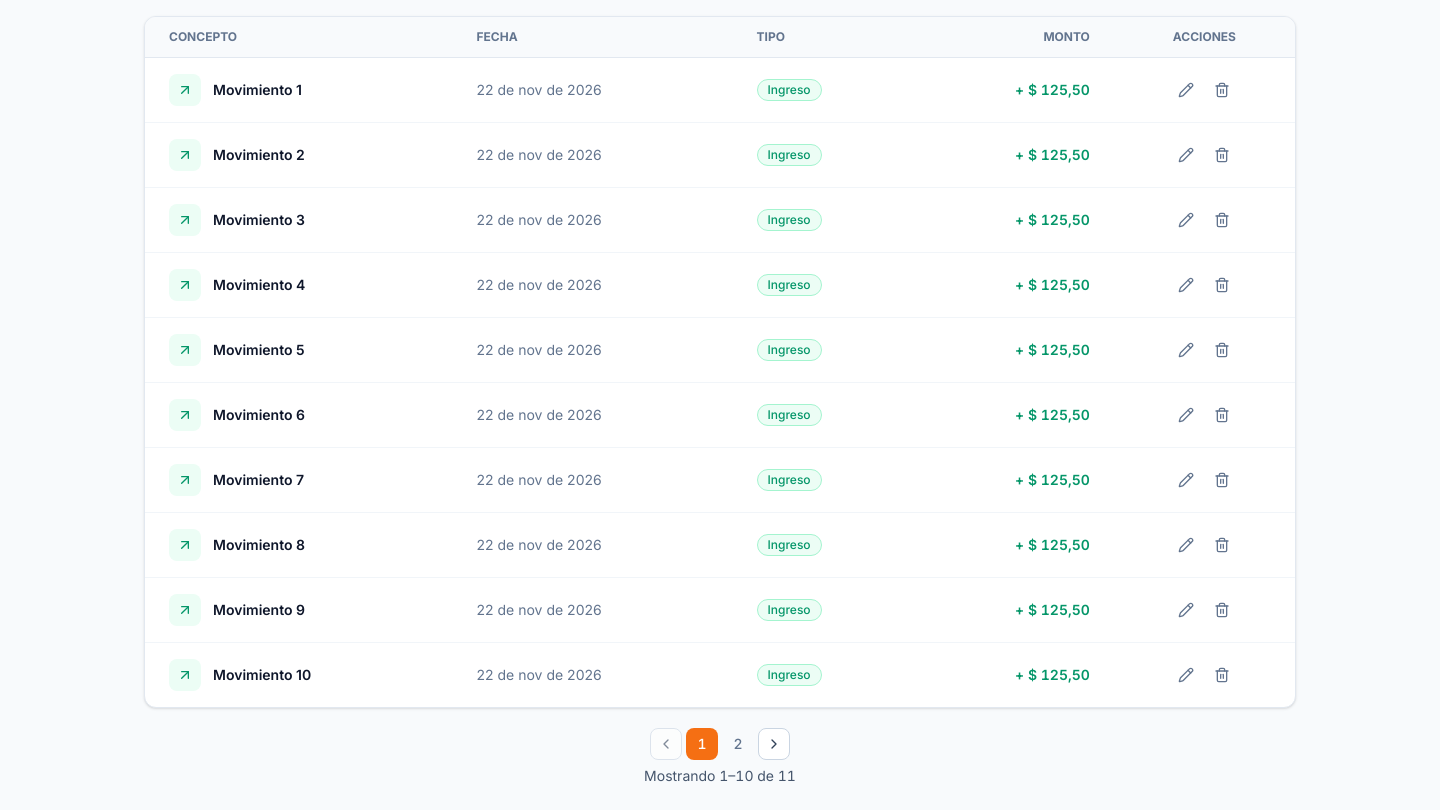
Test case: vuelve a la última página disponible al eliminar el único movimiento de la página
(page scrolled)
Click the button named "Página siguiente" at {"x": 774, "y": 744}, box [758,728,790,760]
(page scrolled)
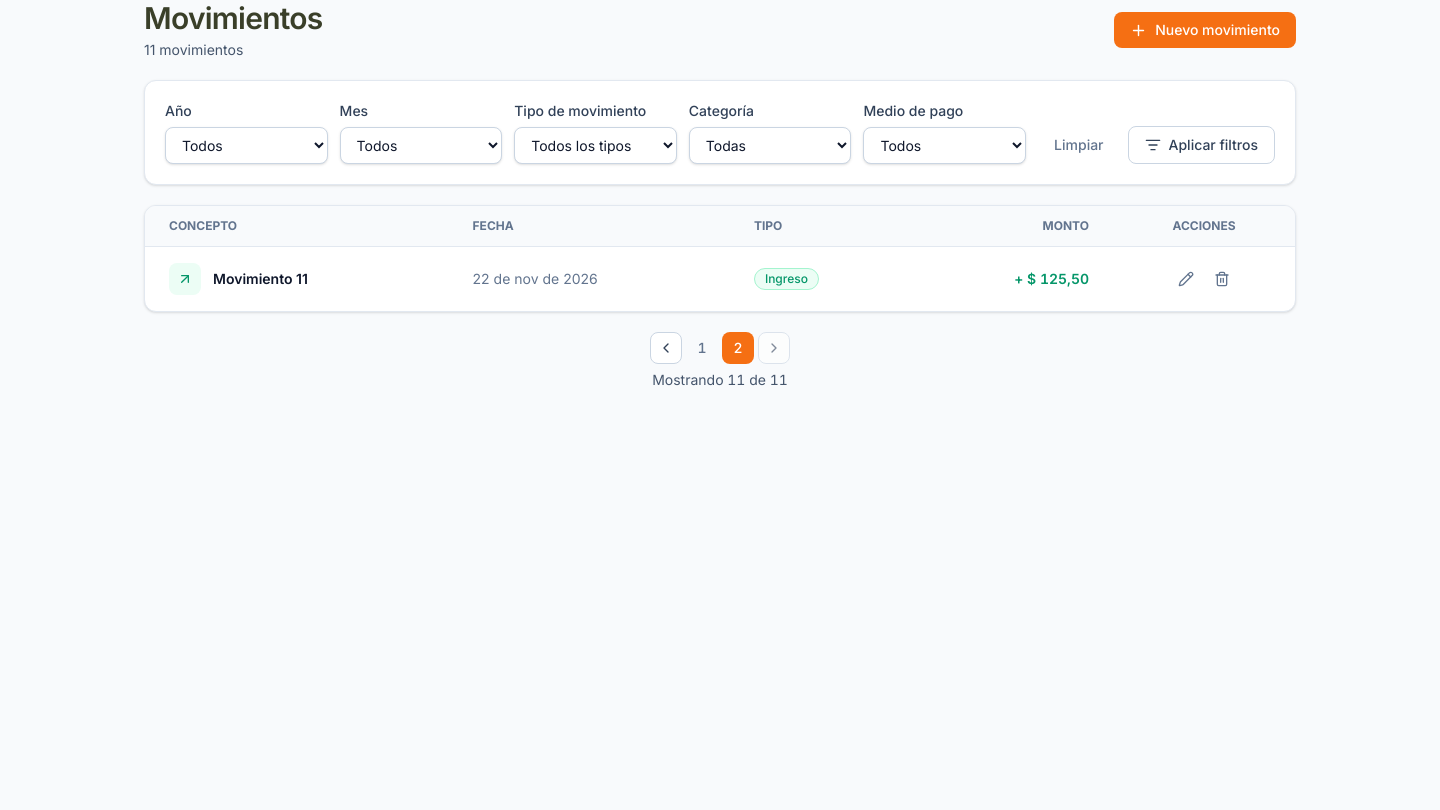
Result: the text "Mostrando 11 de 11" is shown at [652,370,788,390]
Click the button named "Eliminar movimiento" at {"x": 1222, "y": 279}, box [1208,265,1236,293]
(page scrolled)
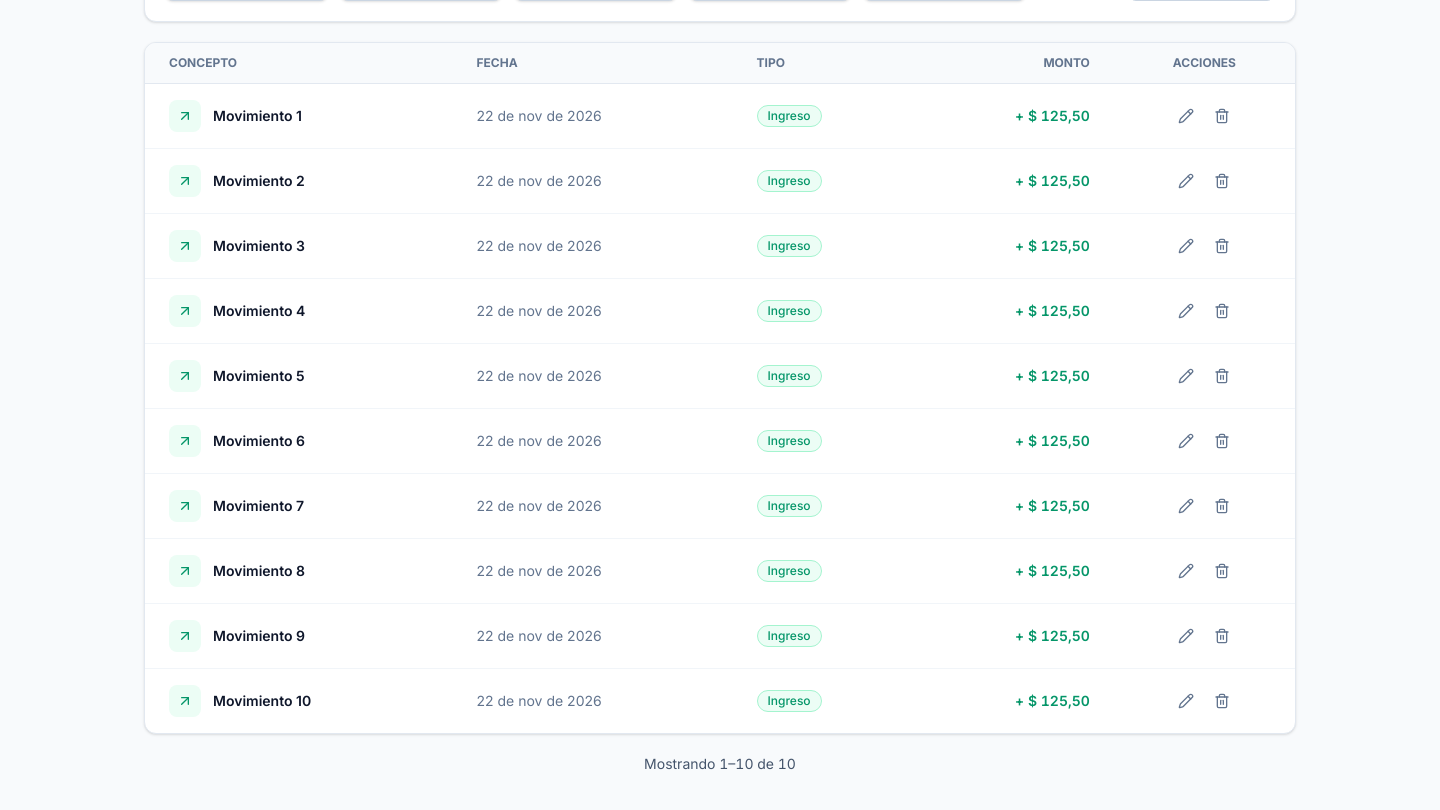
Result: the text "Mostrando 1–10 de 10" is shown at [644,754,796,774]
Result: the navigation bar "Paginación" is gone
